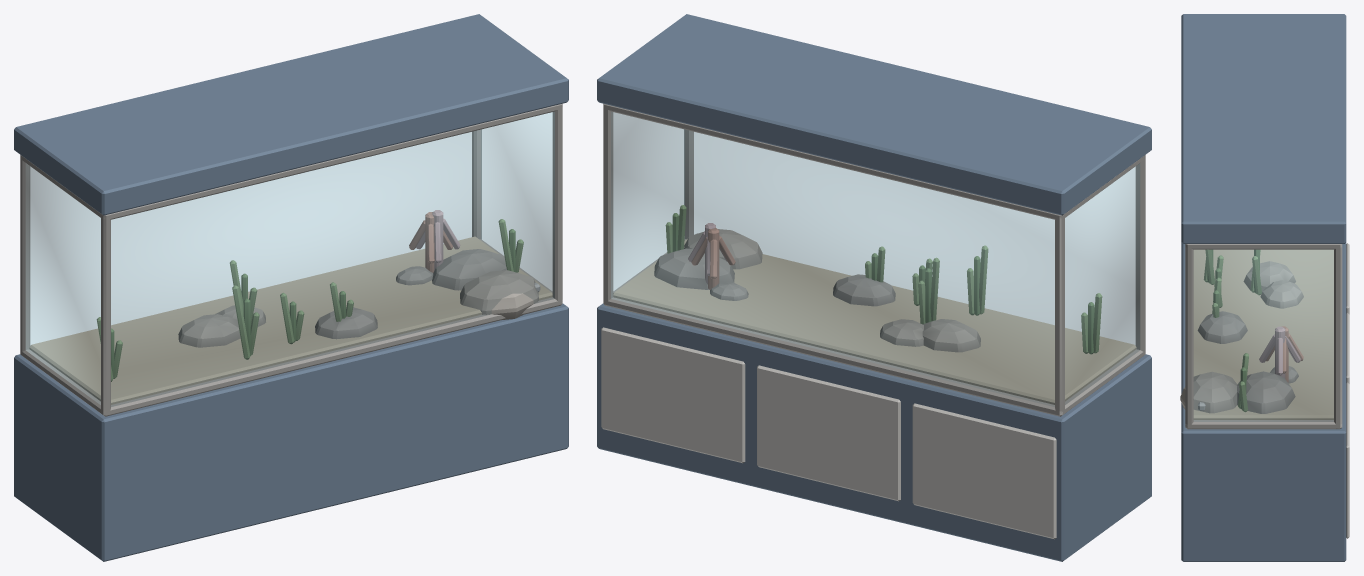
Rendered from furn_aquarium_big__navy.glb.
3 views of the same model, side by side, from view 1: azimuth 30°, elevation 25°; view 2: azimuth 150°, elevation 25°; view 3: azimuth 270°, elevation 25° (orthographic). The views are drawn at different scales.
Size of the model in its own units: 2.4 by 1.82 by 0.8194.
